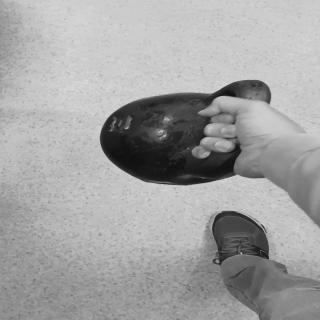girya: (102, 82, 274, 187)
